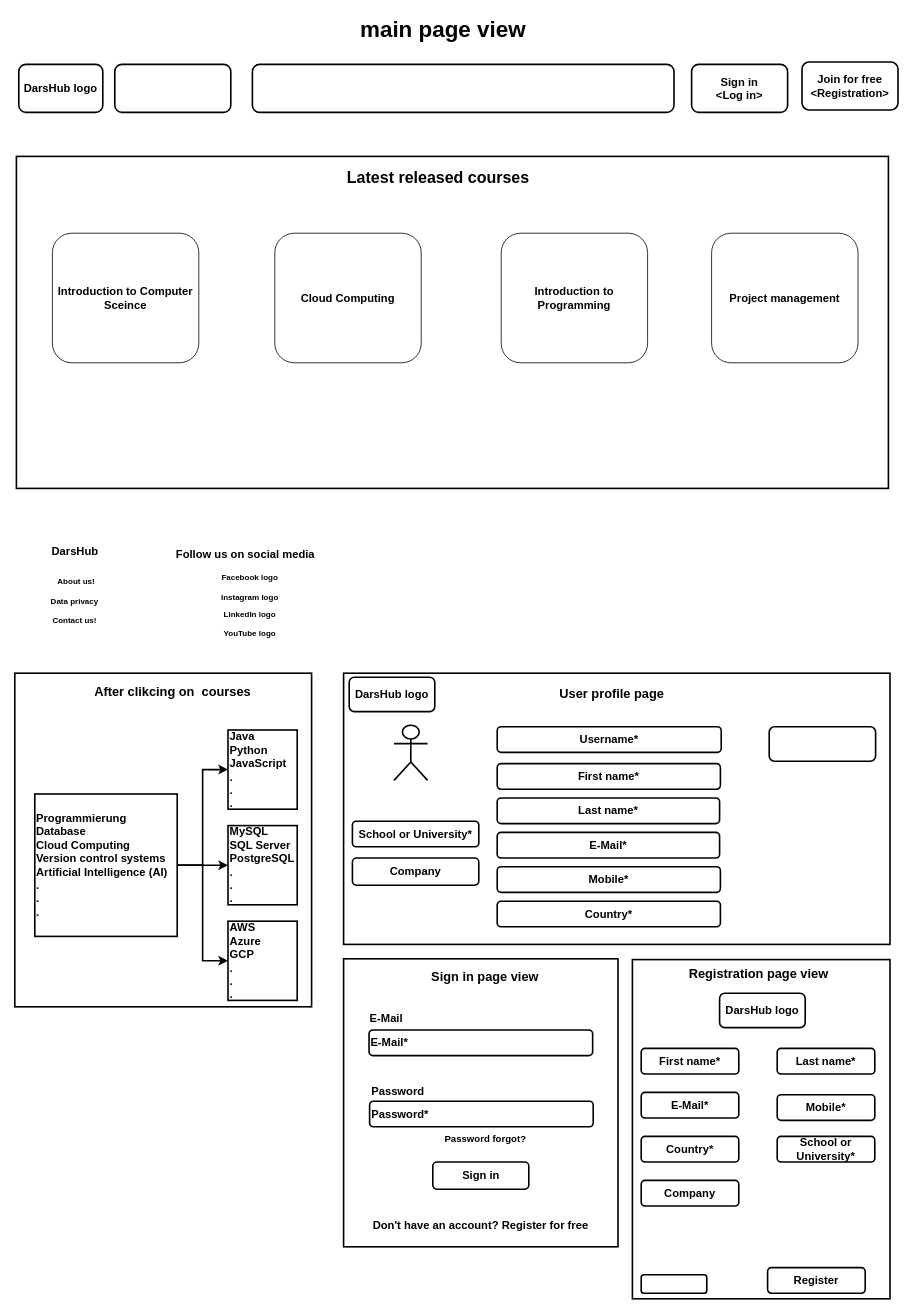
The diagram is 912 pixels wide and 1313 high, and some of its shapes have lost their labels. Here are the shapes that lost their labels. From the top down, the box of each, then its label:
(114, 63, 231, 113): Courses <Course_Category>
(251, 63, 674, 113): Search for a subject
(393, 724, 428, 781): Avatar or Image
(768, 726, 876, 762): Edit profile
(640, 1274, 707, 1294): Data privacy*
